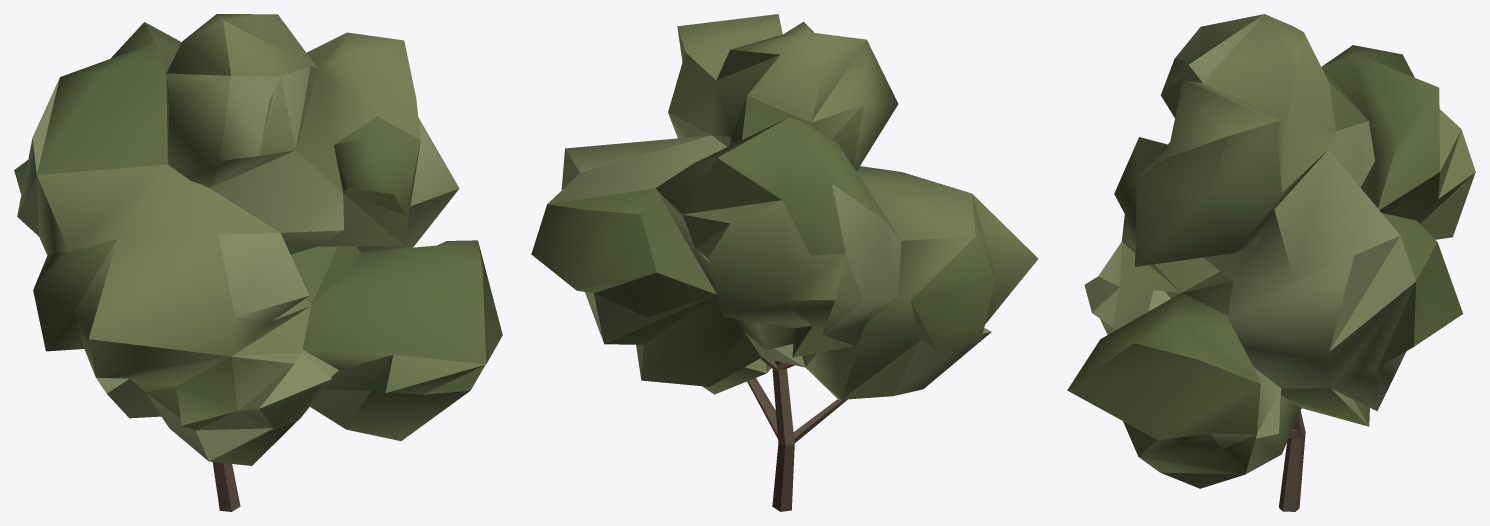
File: source-approved.glb
The picture shows the model from 3 angles, left to right: view 1: azimuth 30°, elevation 25°; view 2: azimuth 150°, elevation 25°; view 3: azimuth 270°, elevation 25°; orthographic projection. The views are drawn at different scales.
Visible parts, largest first — view 1: Лиственное · сквозистое; view 2: Лиственное · сквозистое; view 3: Лиственное · сквозистое.
Boxes of the visible parts, x1,y1,x2,y2 form: Лиственное · сквозистое: (14,14,502,511); Лиственное · сквозистое: (531,14,1038,511); Лиственное · сквозистое: (1067,14,1475,511).
Size of the model in its own units: 20.11 by 22.51 by 17.1.
